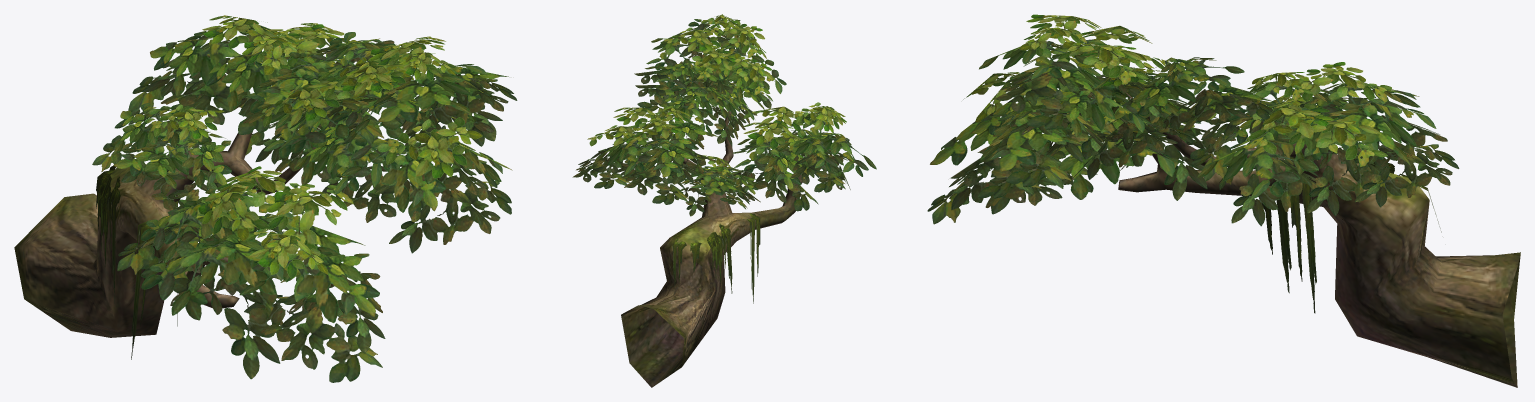
The model's file is Hangzhou_wj_010.FBX.
The picture shows the model from 3 angles, left to right: view 1: azimuth 30°, elevation 25°; view 2: azimuth 150°, elevation 25°; view 3: azimuth 270°, elevation 25°; orthographic projection. The views are drawn at different scales.
Visible parts, largest first — view 1: DrawCall_0289, DrawCall_0288; view 2: DrawCall_0289, DrawCall_0288; view 3: DrawCall_0289, DrawCall_0288.
Part boxes in pixels (x1,y1,x2,y2): DrawCall_0289: (92,15,517,382); DrawCall_0288: (14,117,315,337); DrawCall_0289: (572,14,876,303); DrawCall_0288: (621,97,816,387); DrawCall_0289: (927,14,1459,313); DrawCall_0288: (1118,92,1520,387).
Bounding box in the file's own units: 322 × 344 × 451.
Materials: 2 (2 with a texture image).
